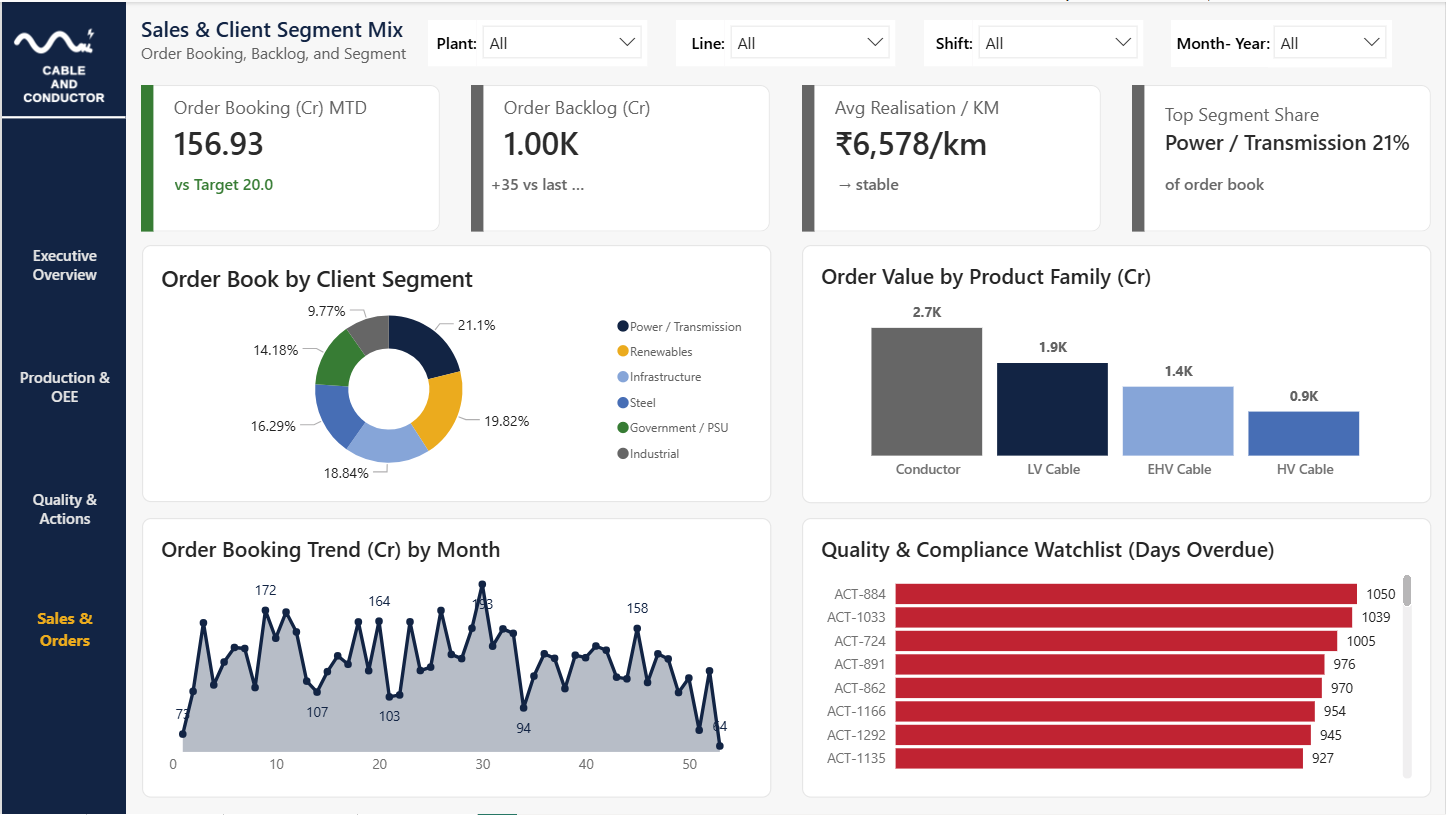

The page's visual inventory and layout, read from the dashboard file:
{"tool":"powerbi","page":{"name":"Sales & Orders","canvas":[1280,720],"ordinal":3},"visuals":[{"type":"slicer","fields":{"Values":["Dim_Date.MonthYear"]},"box":[1122.6,16,110,41.7],"z":0,"group":"g8"},{"type":"slicer","fields":{"Values":["Dim_Line.PlantID"]},"box":[421.3,16.1,151.2,41.3],"z":0,"group":"g3"},{"type":"slicer","fields":{"Values":["Dim_Line.LineName"]},"box":[641,16.1,151.2,41.3],"z":0,"group":"g4"},{"type":"slicer","fields":{"Values":["Dim_Shift.ShiftName"]},"box":[861,16.3,151.2,41.3],"z":0,"group":"g5"},{"type":"textbox","box":[15.1,37.2,81.6,93.1],"z":0},{"type":"shape","box":[1036.6,16,87.8,41.7],"z":1000,"group":"g8"},{"type":"shape","box":[378,16.1,43.3,41.3],"z":1000,"group":"g3"},{"type":"shape","box":[597.7,16.1,43.3,41.3],"z":1000,"group":"g4"},{"type":"shape","box":[817.7,16.3,43.3,41.3],"z":1000,"group":"g5"},{"type":"group","id":"g1","title":"Group 1","box":[123.3,73.6,265.1,130.3],"z":1000},{"type":"cardVisual","title":"Total Production","fields":{"Data":["Measures Table.Order Booking (Cr) MTD"]},"box":[123.3,73.6,265,130],"z":2000,"group":"g1"},{"type":"cardVisual","title":"Total Production","fields":{"Data":["Measures Table.Order Backlog (Cr)"]},"box":[416.2,73.6,265,130],"z":2000,"group":"g7"},{"type":"group","id":"g2","title":"Group 2","box":[709.1,73.6,265.1,130.3],"z":2000},{"type":"cardVisual","title":"Total Production","fields":{"Data":["Measures Table.Avg Realisation Text"]},"box":[709.1,73.6,265,130],"z":2000,"group":"g2"},{"type":"cardVisual","title":"Total Production","fields":{"Data":["Measures Table.Top Segment Text"]},"box":[1002,73.6,265,130],"z":2000,"group":"g6"},{"type":"areaChart","title":"Order Booking Trend (Cr) by Month","fields":{"Y":["Measures Table.Order Booking (Cr) by Month"],"Category":["Dim_Date.Week"]},"box":[123.7,457.9,557.7,248.4],"z":3000},{"type":"shape","box":[0,0,110,720],"z":4000},{"type":"textbox","box":[123.3,10.6,277.5,73.6],"z":5000},{"type":"shape","box":[123.3,73.6,11,130],"z":5002,"group":"g1"},{"type":"shape","box":[416.2,73.6,11,130],"z":5002,"group":"g7"},{"type":"shape","box":[709.1,73.6,11,130],"z":5002,"group":"g2"},{"type":"shape","box":[1002,73.6,11,130],"z":5002,"group":"g6"},{"type":"group","id":"g3","title":"Group 3","box":[378,16.1,194.5,41.3],"z":6000},{"type":"group","id":"g4","title":"Group 3","box":[597.7,16.1,194.5,41.3],"z":7000},{"type":"group","id":"g5","title":"Group 3","box":[817.7,16.3,195.1,41.8],"z":8000},{"type":"group","id":"g6","title":"Group 2","box":[1002,73.6,265.1,130.3],"z":9000},{"type":"clusteredColumnChart","title":"Order Value by Product Family (Cr)","fields":{"Y":["Measures Table.Order Value (Cr)"],"Category":["Fact_Orders.ProductFamily"]},"box":[709.4,215.5,557.7,228.8],"z":10000},{"type":"group","id":"g7","title":"Group 2","box":[416.2,73.6,265.1,130.3],"z":11000},{"type":"donutChart","title":"Order Book by  Client Segment","fields":{"Category":["Dim_Client.Segment"],"Y":["Measures Table.Order Booking (Value)"]},"box":[123.7,215.5,557.7,228.5],"z":12000},{"type":"barChart","title":"Quality & Compliance Watchlist (Days Overdue)","fields":{"Category":["Fact_Tracker.ItemID","Fact_Tracker.ActionItem"],"Y":["Sum(Fact_Tracker.Days Overdue)"]},"box":[709.4,457.5,557.7,248.3],"z":13000},{"type":"group","id":"g8","title":"Group 4","box":[1036.6,16,196,41.7],"z":14000},{"type":"pageNavigator","box":[3,188.6,106.7,414],"z":15000},{"type":"image","box":[0,0,109.5,121.6],"z":15001,"group":"g9"},{"type":"shape","box":[0,73.3,109.5,57.3],"z":15002,"group":"g9"},{"type":"group","id":"g9","title":"Group 5","box":[0,0,109.5,130.6],"z":15003}]}

Visuals, with their boxes on the page's 1280x720 design canvas (x1, y1, x2, y2). These are canvas units, not pixel positions in the 1446x815 screenshot, which may show the page scaled, cropped or inside an application window:
slicer - Dim_Date.MonthYear: locate(1123, 16, 1233, 58)
slicer - Dim_Line.PlantID: locate(421, 16, 572, 57)
slicer - Dim_Line.LineName: locate(641, 16, 792, 57)
slicer - Dim_Shift.ShiftName: locate(861, 16, 1012, 58)
textbox: locate(15, 37, 97, 130)
shape: locate(1037, 16, 1124, 58)
shape: locate(378, 16, 421, 57)
shape: locate(598, 16, 641, 57)
shape: locate(818, 16, 861, 58)
"Group 1" group: locate(123, 74, 388, 204)
"Total Production" cardVisual: locate(123, 74, 388, 204)
"Total Production" cardVisual: locate(416, 74, 681, 204)
"Group 2" group: locate(709, 74, 974, 204)
"Total Production" cardVisual: locate(709, 74, 974, 204)
"Total Production" cardVisual: locate(1002, 74, 1267, 204)
"Order Booking Trend (Cr) by Month" areaChart: locate(124, 458, 681, 706)
shape: locate(0, 0, 110, 720)
textbox: locate(123, 11, 401, 84)
shape: locate(123, 74, 134, 204)
shape: locate(416, 74, 427, 204)
shape: locate(709, 74, 720, 204)
shape: locate(1002, 74, 1013, 204)
"Group 3" group: locate(378, 16, 572, 57)
"Group 3" group: locate(598, 16, 792, 57)
"Group 3" group: locate(818, 16, 1013, 58)
"Group 2" group: locate(1002, 74, 1267, 204)
"Order Value by Product Family (Cr)" clusteredColumnChart: locate(709, 216, 1267, 444)
"Group 2" group: locate(416, 74, 681, 204)
"Order Book by  Client Segment" donutChart: locate(124, 216, 681, 444)
"Quality & Compliance Watchlist (Days Overdue)" barChart: locate(709, 458, 1267, 706)
"Group 4" group: locate(1037, 16, 1233, 58)
pageNavigator: locate(3, 189, 110, 603)
image: locate(0, 0, 110, 122)
shape: locate(0, 73, 110, 131)
"Group 5" group: locate(0, 0, 110, 131)
